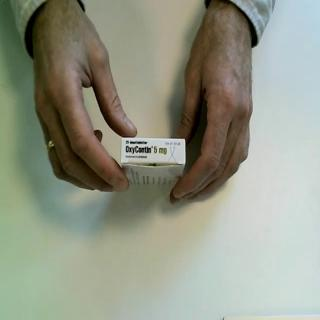oxycontin5mg: (120, 135, 188, 189)
